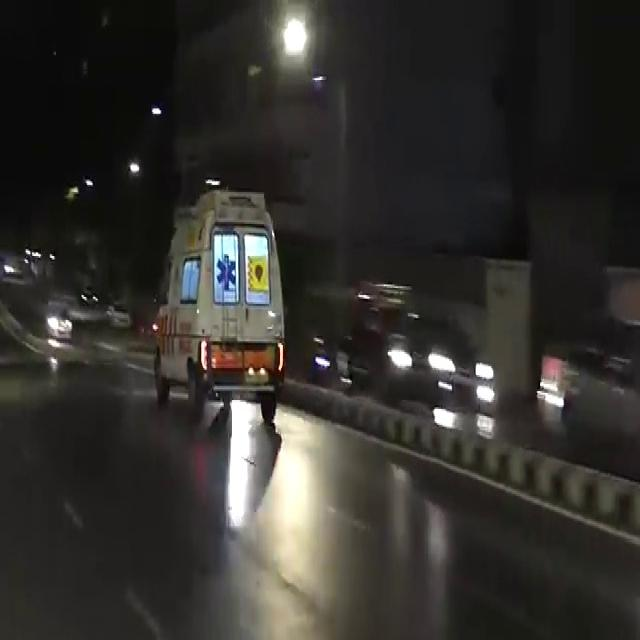ambulance: (145, 170, 325, 408)
